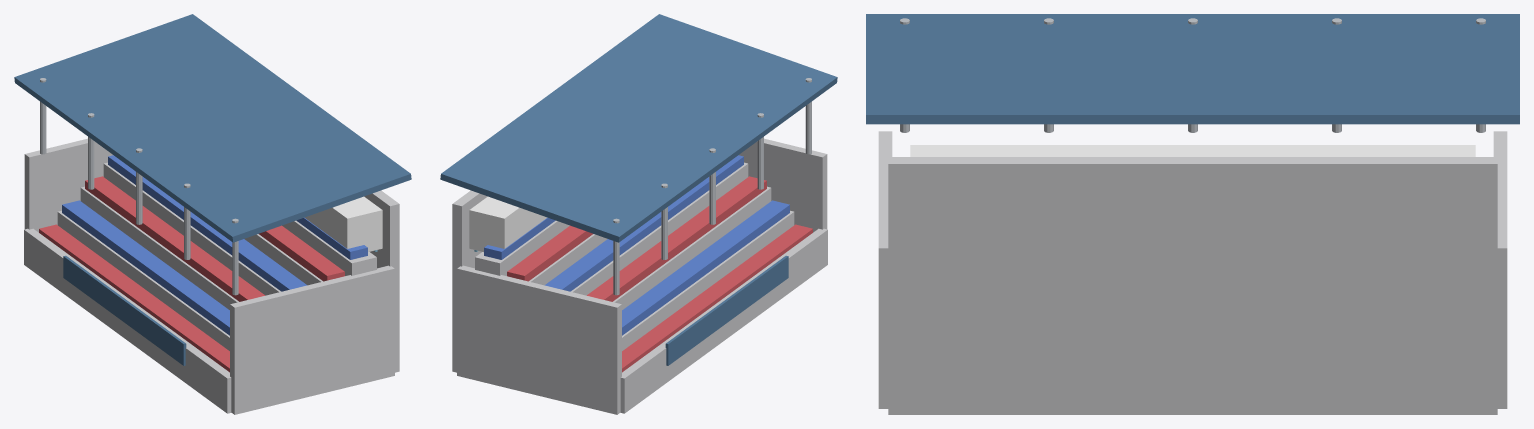
The model's file is grandstand.glb.
3 views of the same model, side by side, from view 1: azimuth 30°, elevation 25°; view 2: azimuth 150°, elevation 25°; view 3: azimuth 270°, elevation 25° (orthographic). The views are drawn at different scales.
Parts seen in each view (by area): view 1: Stand_Roof, Stand_SideWall_R, Stand_FrontWall, Stand_SideWall_L, Stand_Seats_2, Stand_Seats_1, Stand_Seats_3, Stand_FrontSign, Stand_Seats_4, Stand_Tier_2, Stand_UpperBox, Stand_Tier_4 (+11 smaller); view 2: Stand_Roof, Stand_SideWall_L, Stand_FrontWall, Stand_SideWall_R, Stand_Seats_2, Stand_Seats_1, Stand_Seats_3, Stand_FrontSign, Stand_Seats_4, Stand_Tier_2, Stand_UpperBox, Stand_Tier_4 (+11 smaller); view 3: Stand_RearWall, Stand_Roof, Stand_UpperBox, Stand_SideWall_L, Stand_SideWall_R.
Boxes of the visible parts, x1,y1,x2,y2 form: Stand_Roof: (14,14,411,242); Stand_SideWall_R: (230,265,394,414); Stand_FrontWall: (24,228,231,413); Stand_SideWall_L: (24,138,113,232); Stand_Seats_2: (62,200,229,335); Stand_Seats_1: (39,224,229,372); Stand_Seats_3: (85,176,264,301); Stand_FrontSign: (63,255,186,365); Stand_Seats_4: (108,155,307,291); Stand_Tier_2: (57,210,229,350); Stand_UpperBox: (304,196,382,251); Stand_Tier_4: (103,162,281,295); Stand_Roof: (440,14,837,242); Stand_SideWall_L: (457,265,621,414); Stand_FrontWall: (620,228,827,413); Stand_SideWall_R: (738,138,827,232); Stand_Seats_2: (622,200,789,335); Stand_Seats_1: (622,224,812,372); Stand_Seats_3: (587,176,766,301); Stand_FrontSign: (665,255,788,365); Stand_Seats_4: (544,155,743,291); Stand_Tier_2: (622,210,794,350); Stand_UpperBox: (469,196,547,251); Stand_Tier_4: (570,162,748,295); Stand_RearWall: (888,157,1497,414); Stand_Roof: (866,14,1519,124); Stand_UpperBox: (910,145,1475,156); Stand_SideWall_L: (1493,131,1507,408); Stand_SideWall_R: (878,131,892,408).
Size of the model in its own units: 5.59 by 6.04 by 11.8.
